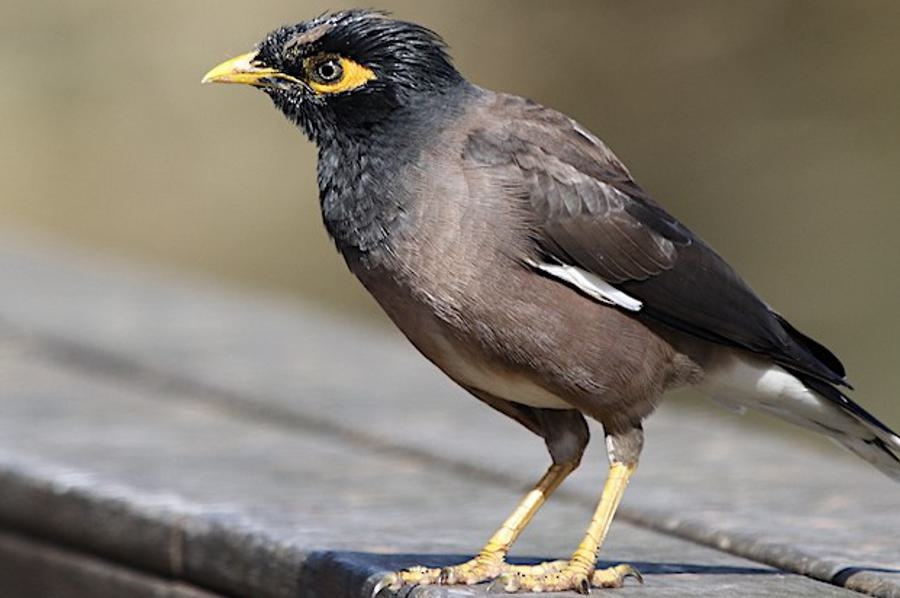myna: (205, 12, 822, 544)
